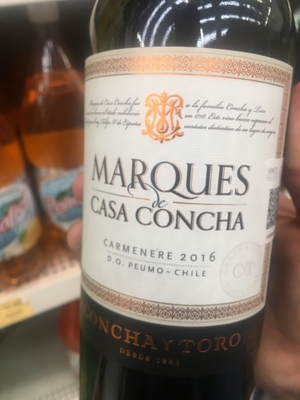marques de casa concha carmenere: (76, 14, 289, 390)
